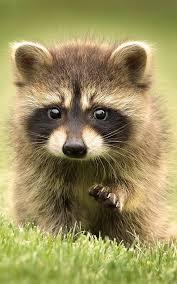raccoon: (0, 26, 177, 257)
